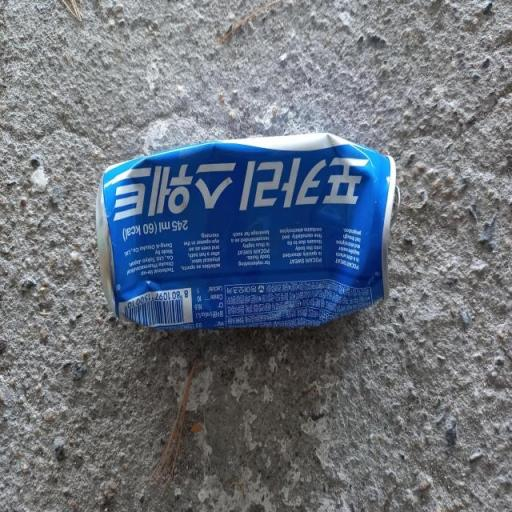metal: (87, 122, 416, 356)
